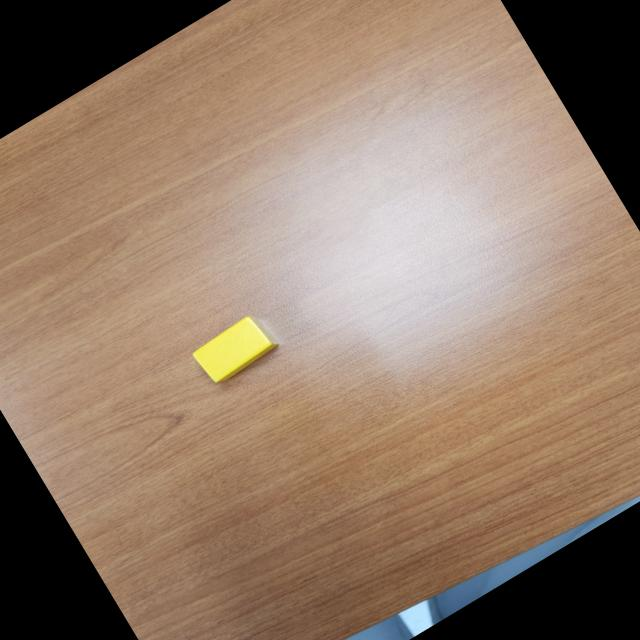yellow: (190, 308, 284, 388)
